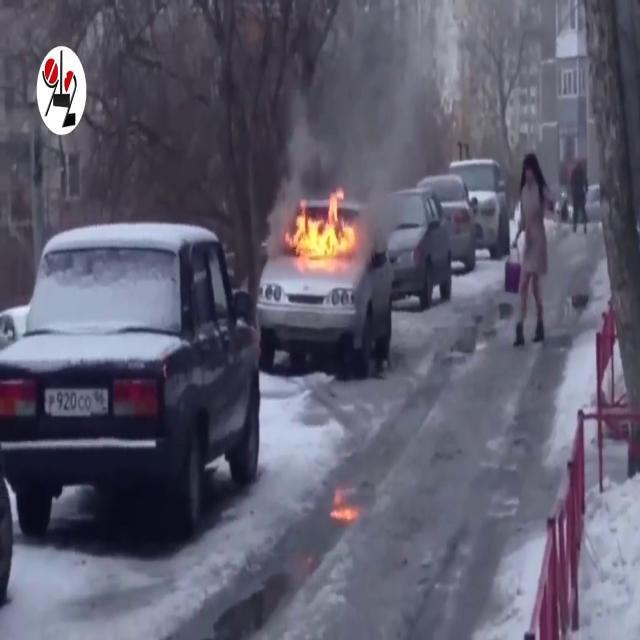Fire: (284, 184, 361, 270)
Smoke: (276, 1, 456, 228)
